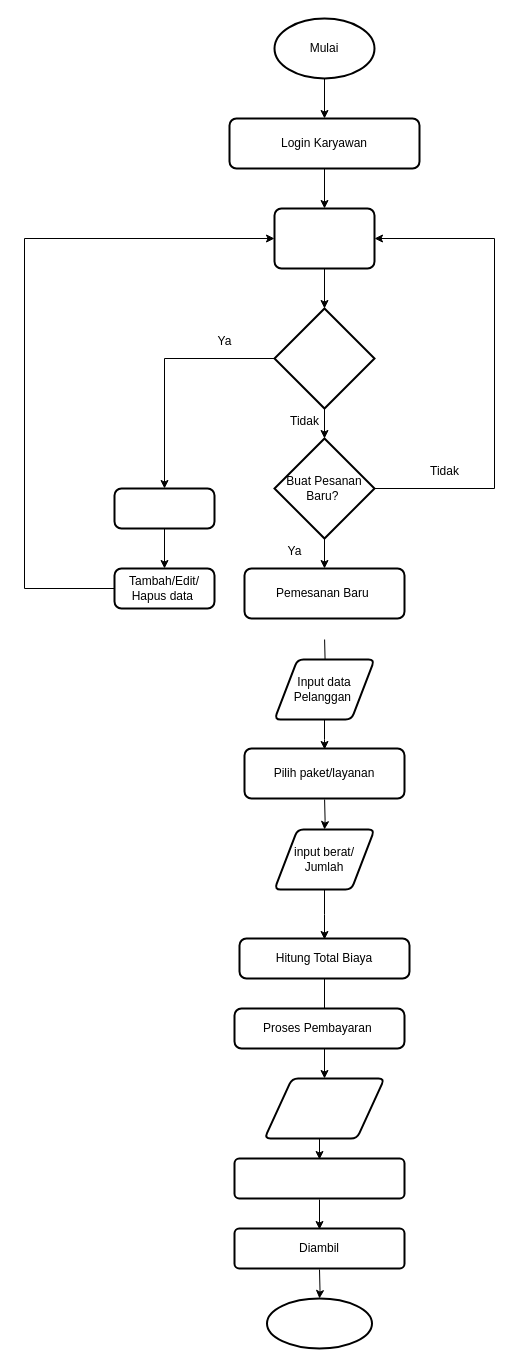
Some shapes in this 520 by 1366 pixel diagram are drawn without their labels. Here are the shapes that lost their labels. From the top down, the centre of each, then its label:
At (324,238): "Tampilan Dashbord".
At (324,358): "Kelola Paket & Layanan?".
At (164,508): "Kelola Paket & Layanan".
At (324,1108): "Hasil Transaksi".
At (319,1178): "Proses Laundry".
At (319,1323): "Selesai".
